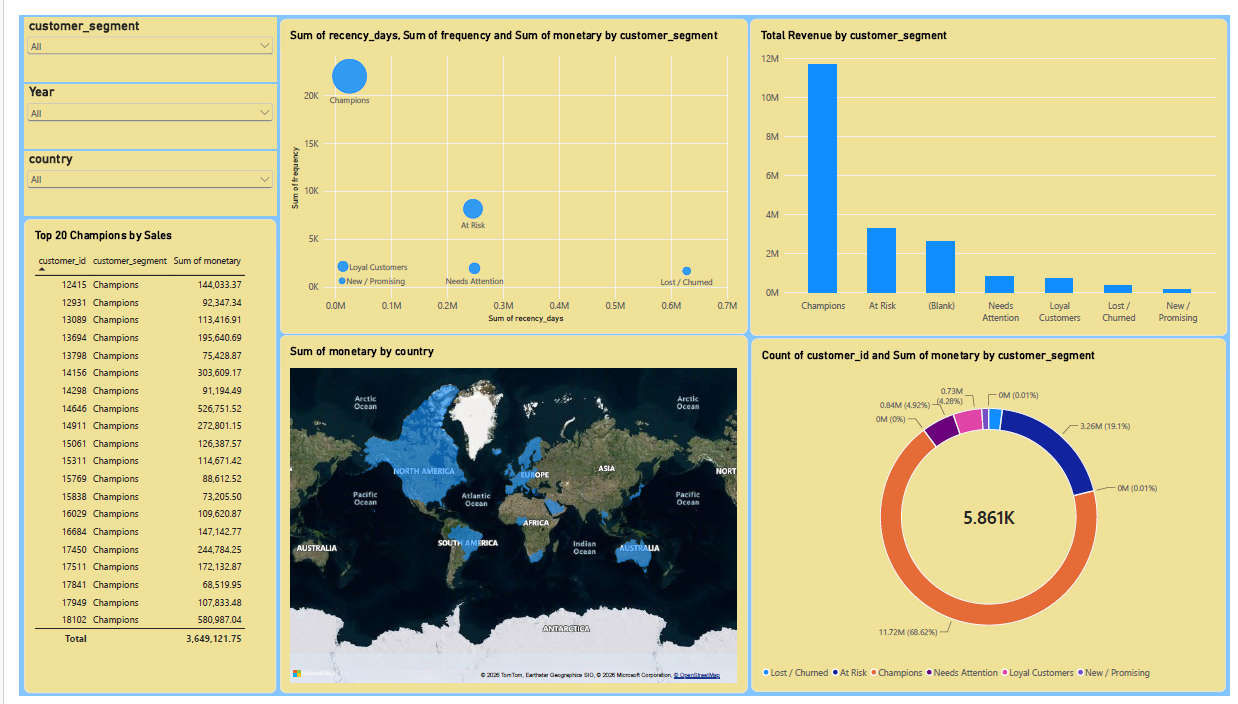

This screenshot's page, from the dashboard's own definition file:
{"tool":"powerbi","page":{"name":"Customer Segmentation (RFM)","canvas":[1920,1080],"ordinal":2},"visuals":[{"type":"clusteredColumnChart","fields":{"Category":["rfm_segments.customer_segment"],"Y":["1. powerbi_fact_sales.Total Revenue"]},"box":[1159.6,6.4,757.4,502.1],"z":0},{"type":"donutChart","fields":{"Category":["rfm_segments.customer_segment"],"Y":["CountNonNull(rfm_segments.customer_id)","Sum(rfm_segments.monetary)"]},"box":[1161.7,512.8,753.2,561.7],"z":1000},{"type":"scatterChart","fields":{"X":["Sum(rfm_segments.recency_days)"],"Category":["rfm_segments.customer_segment"],"Y":["Sum(rfm_segments.frequency)"],"Size":["Sum(rfm_segments.monetary)"]},"box":[414,6,742,500],"z":2000},{"type":"tableEx","title":"Top 20 Champions by Sales","fields":{"Values":["rfm_segments.customer_id","rfm_segments.customer_segment","Sum(rfm_segments.monetary)"]},"box":[8,324,400,752],"z":3000},{"type":"filledMap","fields":{"Category":["1. powerbi_dim_customers.country"]},"box":[414,508,742,568],"z":4000},{"type":"slicer","fields":{"Values":["1. powerbi_dim_customers.country"]},"box":[8,216,400,102],"z":5000},{"type":"slicer","fields":{"Values":["1. rfm_segments 1.customer_segment"]},"box":[8,4,400,102],"z":6000},{"type":"slicer","fields":{"Values":["DateTable.Year"]},"box":[8,110,400,102],"z":7000}]}

Visuals, with their boxes in screenshot pixels (x1, y1, x2, y2), scaled from the page's 1920x1080 canvas onto the 1238x704 screenshot:
clusteredColumnChart - rfm_segments.customer_segment x 1. powerbi_fact_sales.Total Revenue: Rect(748, 4, 1236, 331)
donutChart - rfm_segments.customer_segment x CountNonNull(rfm_segments.customer_id): Rect(749, 334, 1235, 700)
scatterChart - Sum(rfm_segments.recency_days) x rfm_segments.customer_segment: Rect(267, 4, 745, 330)
"Top 20 Champions by Sales" tableEx: Rect(5, 211, 263, 701)
filledMap - 1. powerbi_dim_customers.country: Rect(267, 331, 745, 701)
slicer - 1. powerbi_dim_customers.country: Rect(5, 141, 263, 207)
slicer - 1. rfm_segments 1.customer_segment: Rect(5, 3, 263, 69)
slicer - DateTable.Year: Rect(5, 72, 263, 138)
